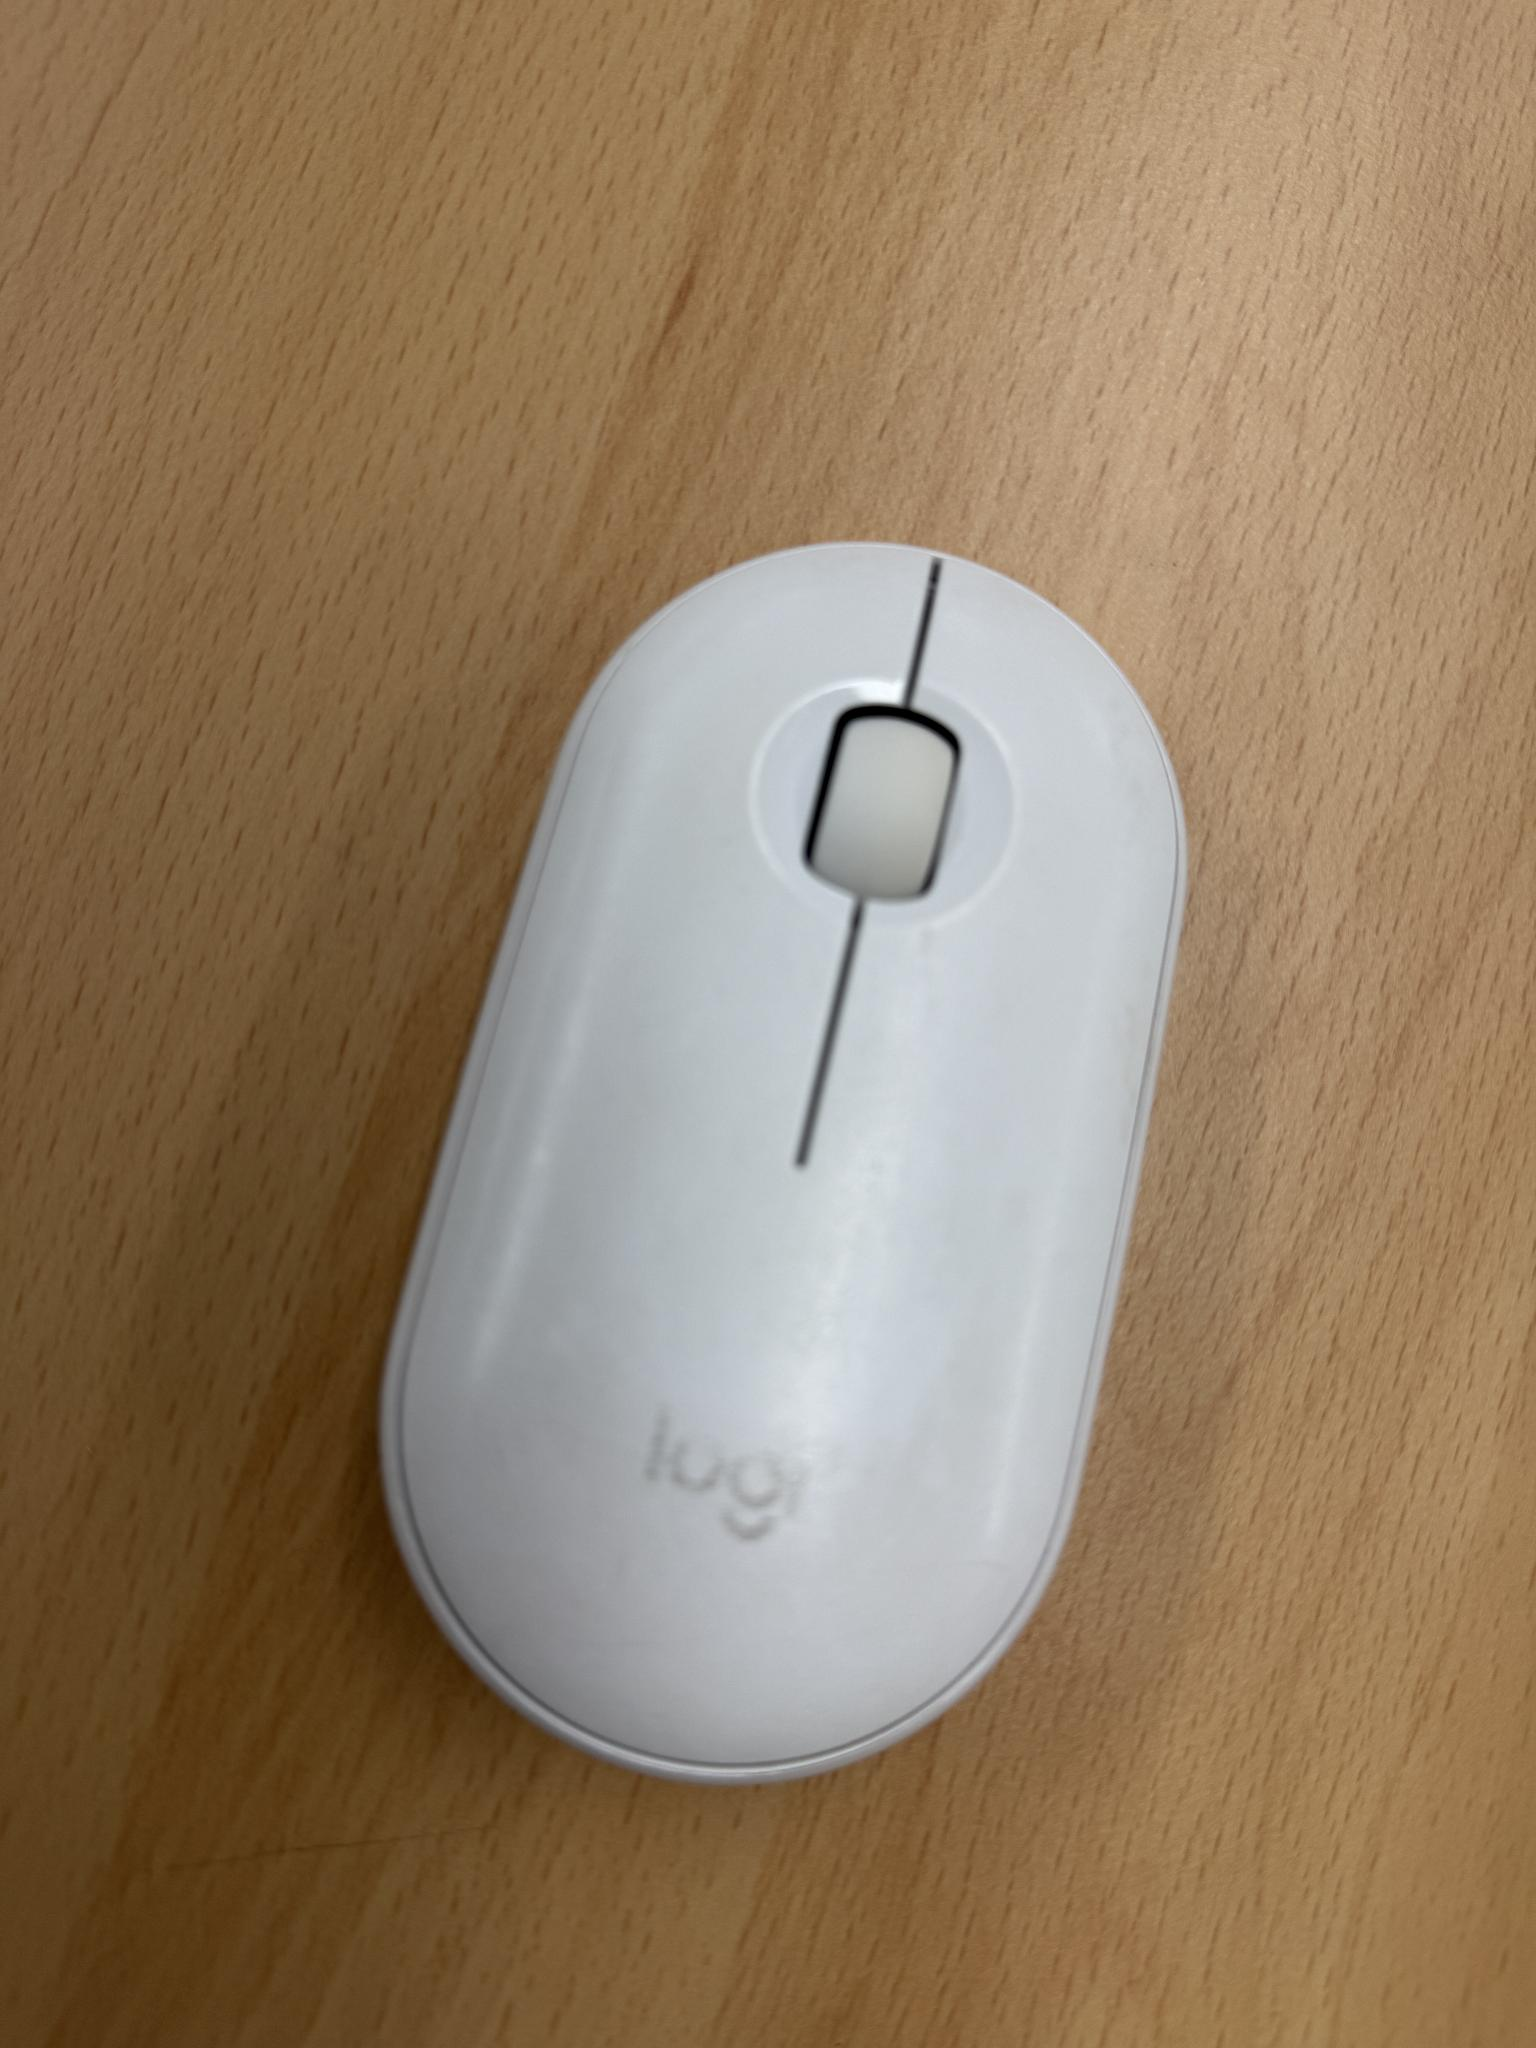front: (373, 531, 1197, 1793)
